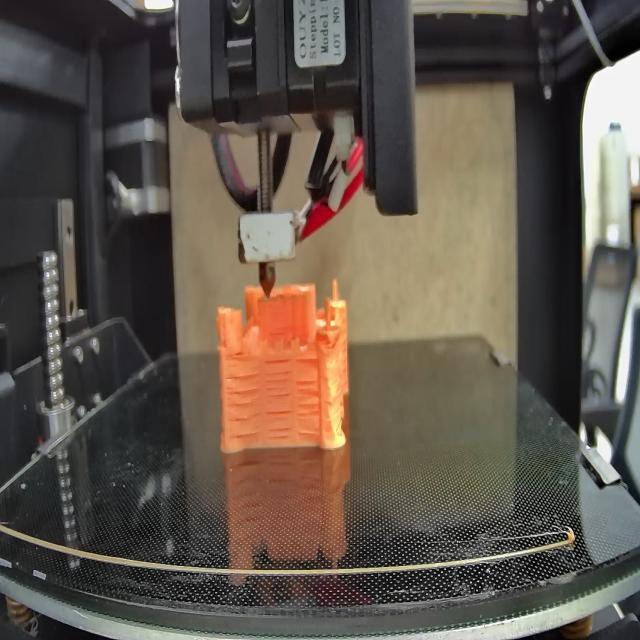cracks: (224, 372, 260, 440), (296, 376, 321, 441), (263, 357, 293, 399), (265, 405, 295, 440), (295, 353, 316, 366)
